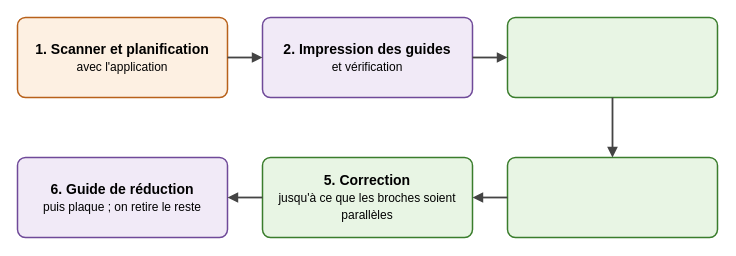
The diagram is 736 pixels wide and 256 high, and some of its shapes have lost their labels. Each missing label, with the centre of its shape:
"3. Pose du guide de coupe puis forage des 4 broches" goes at (x=612, y=57).
"4. Coupe de l'os la scie suit les fentes" goes at (x=612, y=197).
